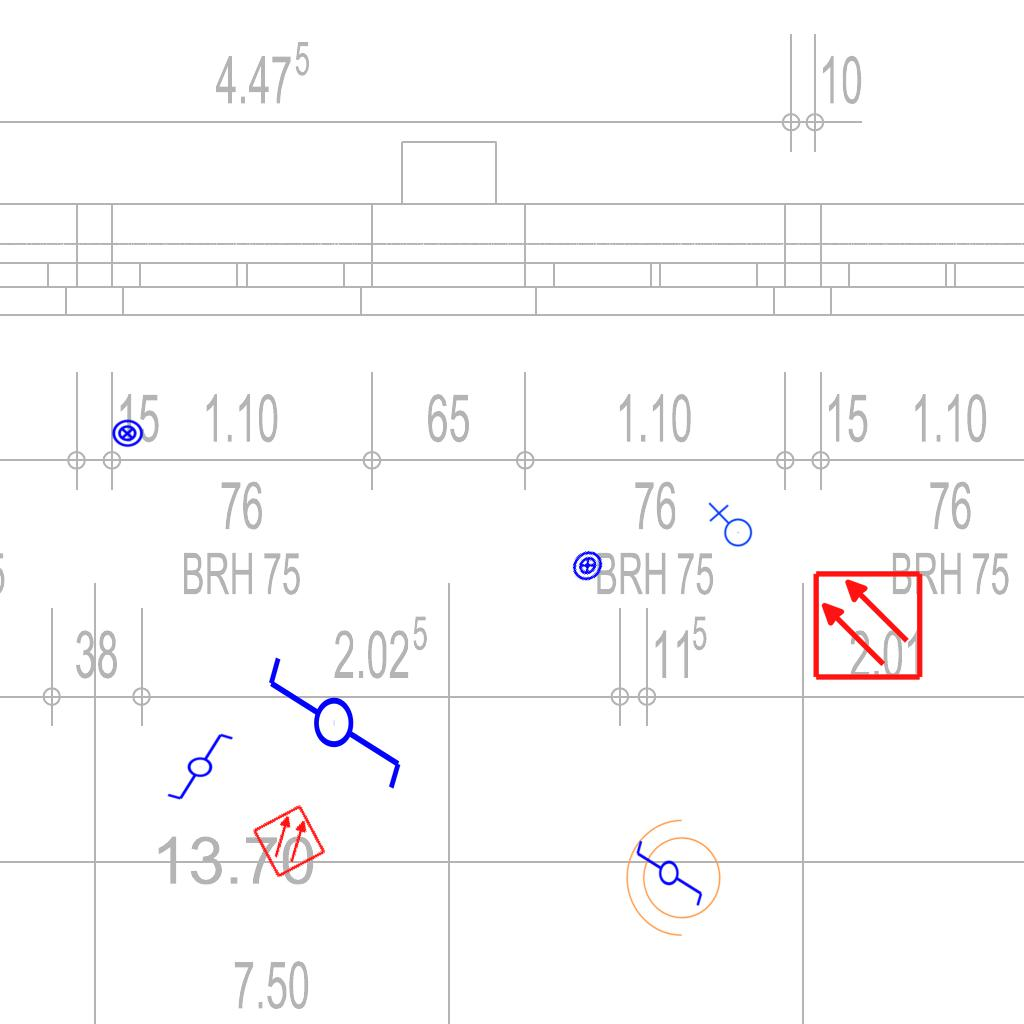Elektroanschluss_allgemein_230V_Geraeteanschlussdose_230V: (706, 502, 753, 551)
RMO_Rauchmelder_optischer: (811, 569, 924, 682), (251, 803, 327, 879)
Scheinwerfer_fuer_Alarmbeleuchtung: (621, 815, 733, 947)
Taster_beleuchtet: (564, 542, 611, 589), (111, 417, 144, 450)
Wechselschalter: (264, 636, 408, 793), (157, 730, 235, 802), (634, 830, 706, 908)
